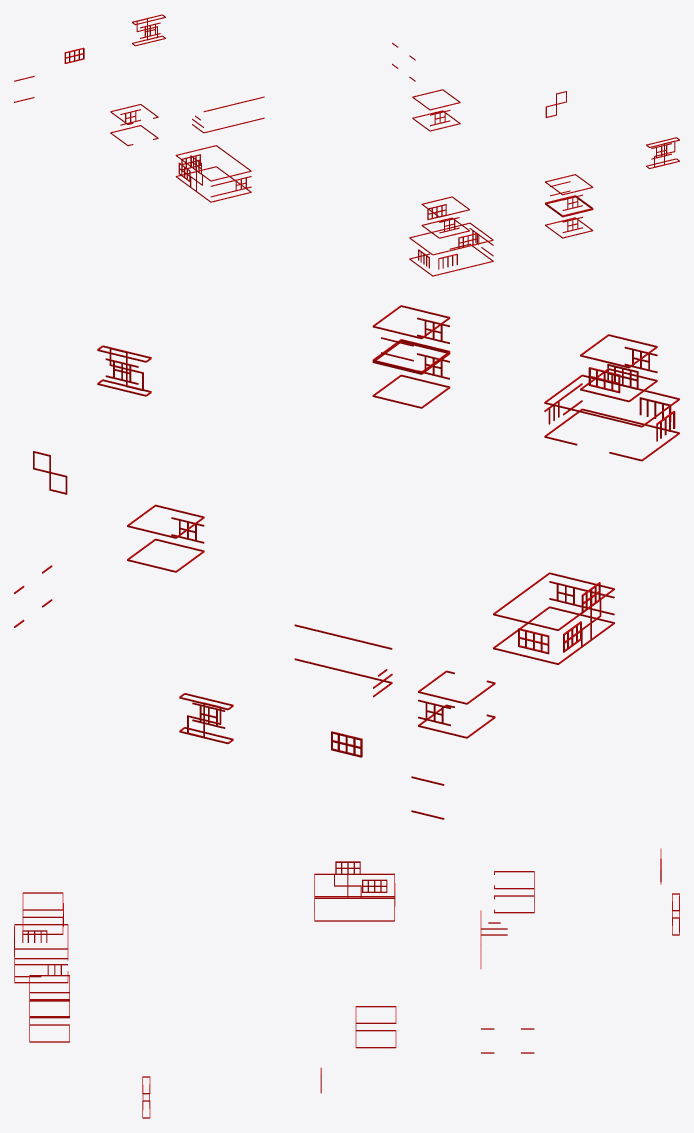
Rendered from object_14_lev1_lev2.glb.
The picture shows the model from 3 angles, top to bottom: view 1: azimuth 30°, elevation 25°; view 2: azimuth 150°, elevation 25°; view 3: azimuth 270°, elevation 25°; orthographic projection. The views are drawn at different scales.
Visible parts, largest first — view 1: object_14_lev1_lev2; view 2: object_14_lev1_lev2; view 3: object_14_lev1_lev2.
Part boxes in pixels (left/top/right/bottom): object_14_lev1_lev2: left=14, top=14, right=679, bottom=276; object_14_lev1_lev2: left=14, top=305, right=679, bottom=819; object_14_lev1_lev2: left=14, top=848, right=679, bottom=1118.
Bounding box in the file's own units: 53.99 × 6.43 × 62.
